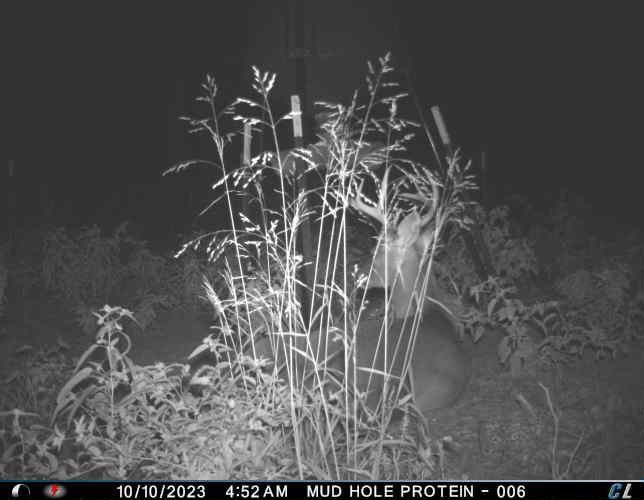Deer: (294, 164, 468, 414)
